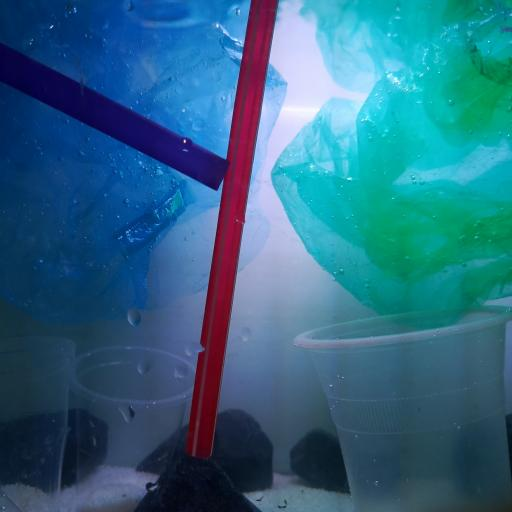plastic_bag: (3, 0, 283, 325), (271, 0, 512, 322)
plastic_cup: (292, 304, 512, 512), (65, 344, 197, 512), (0, 333, 76, 512)
plastic_straw: (184, 0, 280, 460), (0, 40, 231, 192)
